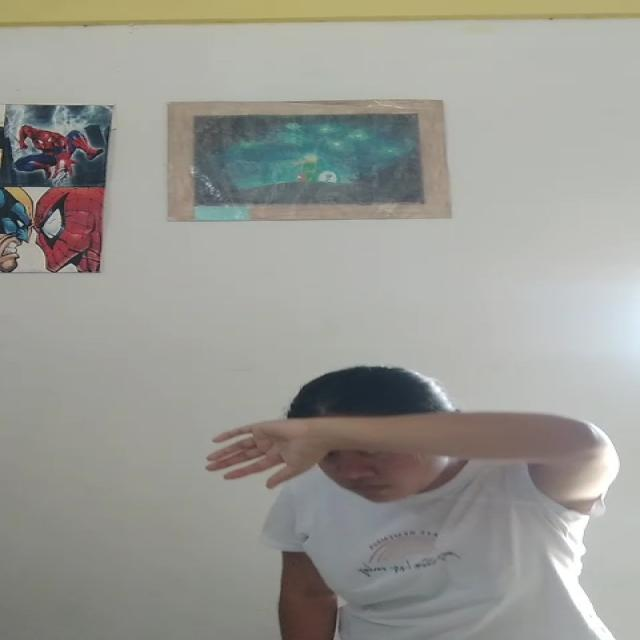7_mano_rostro: (260, 418, 505, 489)
